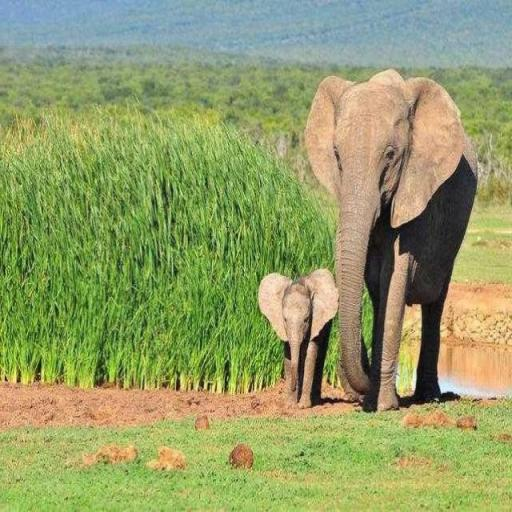Elephant: (304, 68, 478, 412), (257, 266, 339, 410)
